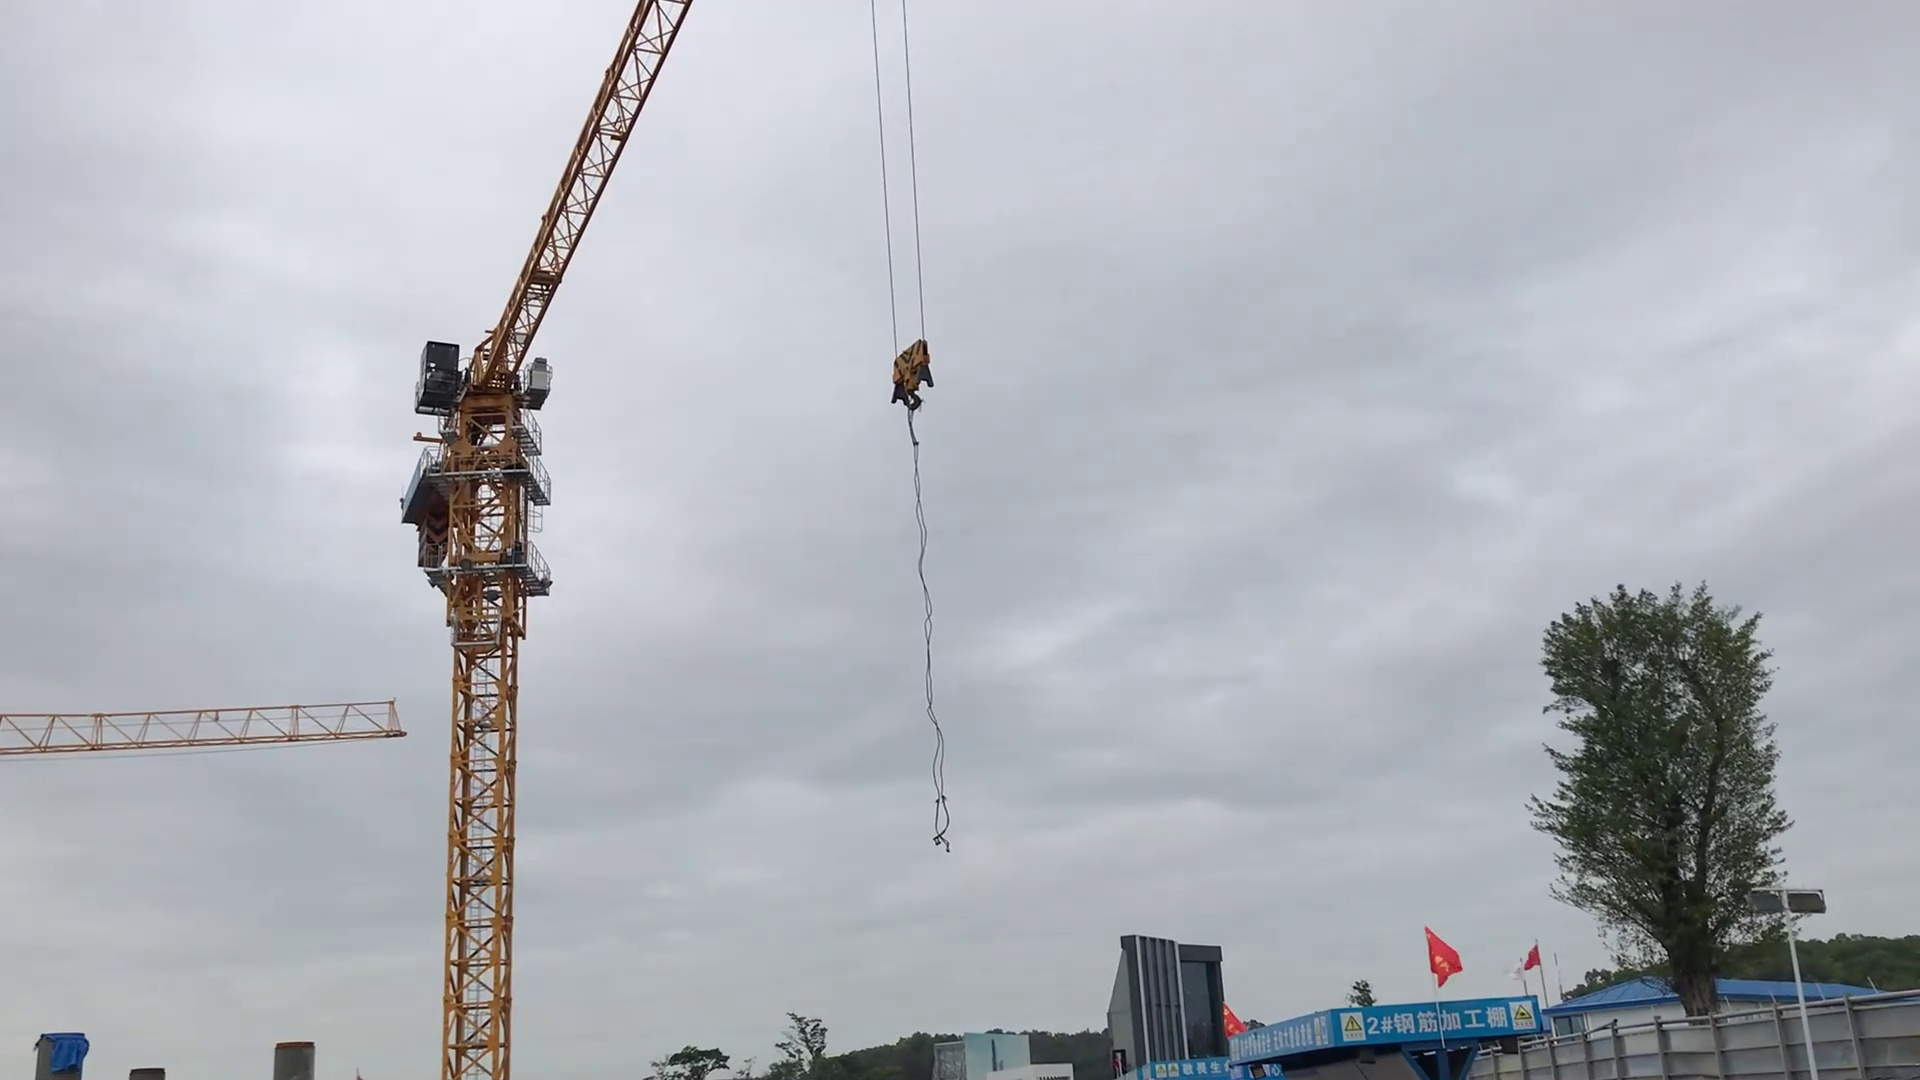hook: (881, 334, 943, 423)
